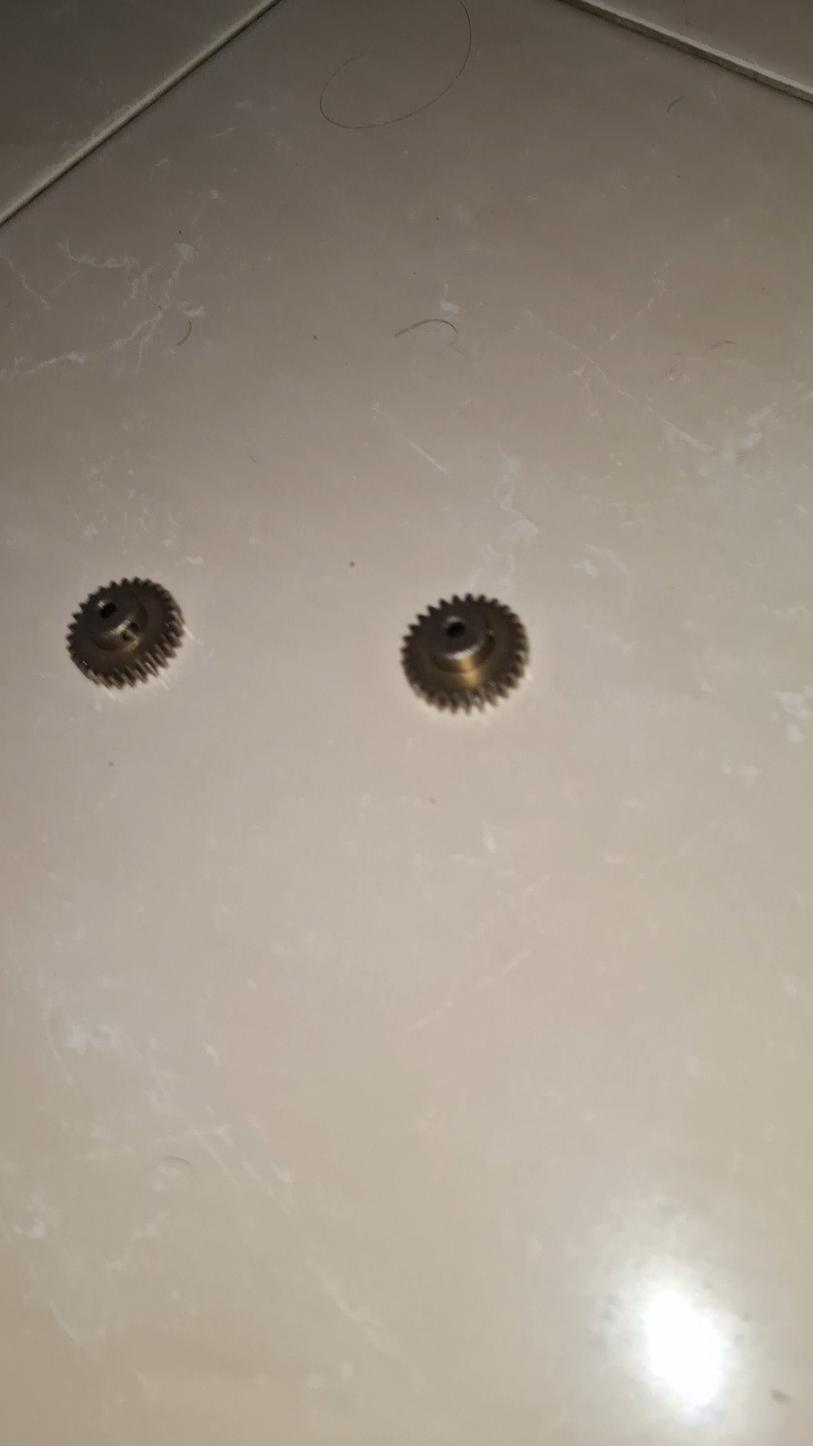spur gear: (402, 595, 528, 711), (67, 578, 183, 688)
